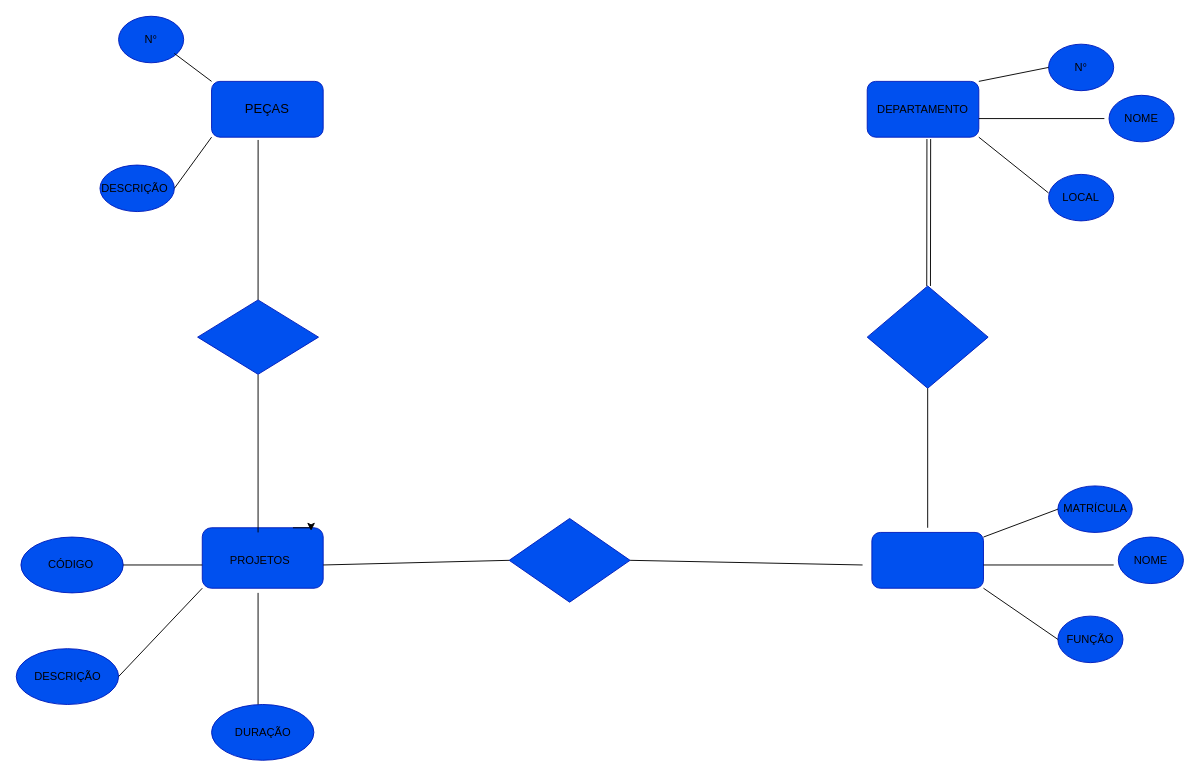
Image size: 1200x777. Some labels were removed from this diagram. Each missing label, with the centre of its shape:
"DESENVOLVEM" goes at point (569, 560).
"GERENTES E FUNCIONÁRIOS" goes at point (927, 559).
"PRODUZEM" goes at point (258, 336).
"TEM" goes at point (927, 336).
